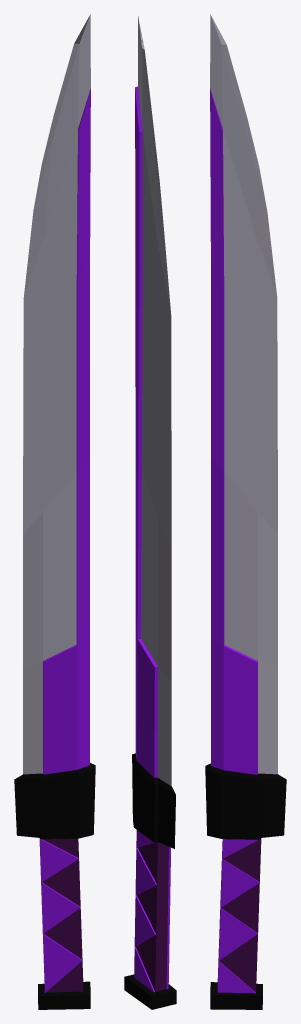
File: Sword.fbx
The picture shows the model from 3 angles, left to right: view 1: azimuth 90°, elevation 25°; view 2: azimuth 210°, elevation 25°; view 3: azimuth 270°, elevation 25°; orthographic projection.
Parts seen in each view (by area): view 1: Cube; view 2: Cube; view 3: Cube.
Boxes of the visible parts, x1=… form: Cube: x1=14, y1=14, x2=95, y2=1009; Cube: x1=124, y1=15, x2=176, y2=1009; Cube: x1=205, y1=14, x2=286, y2=1009.
Size of the model in its own units: 27.09 by 915 by 68.18.
